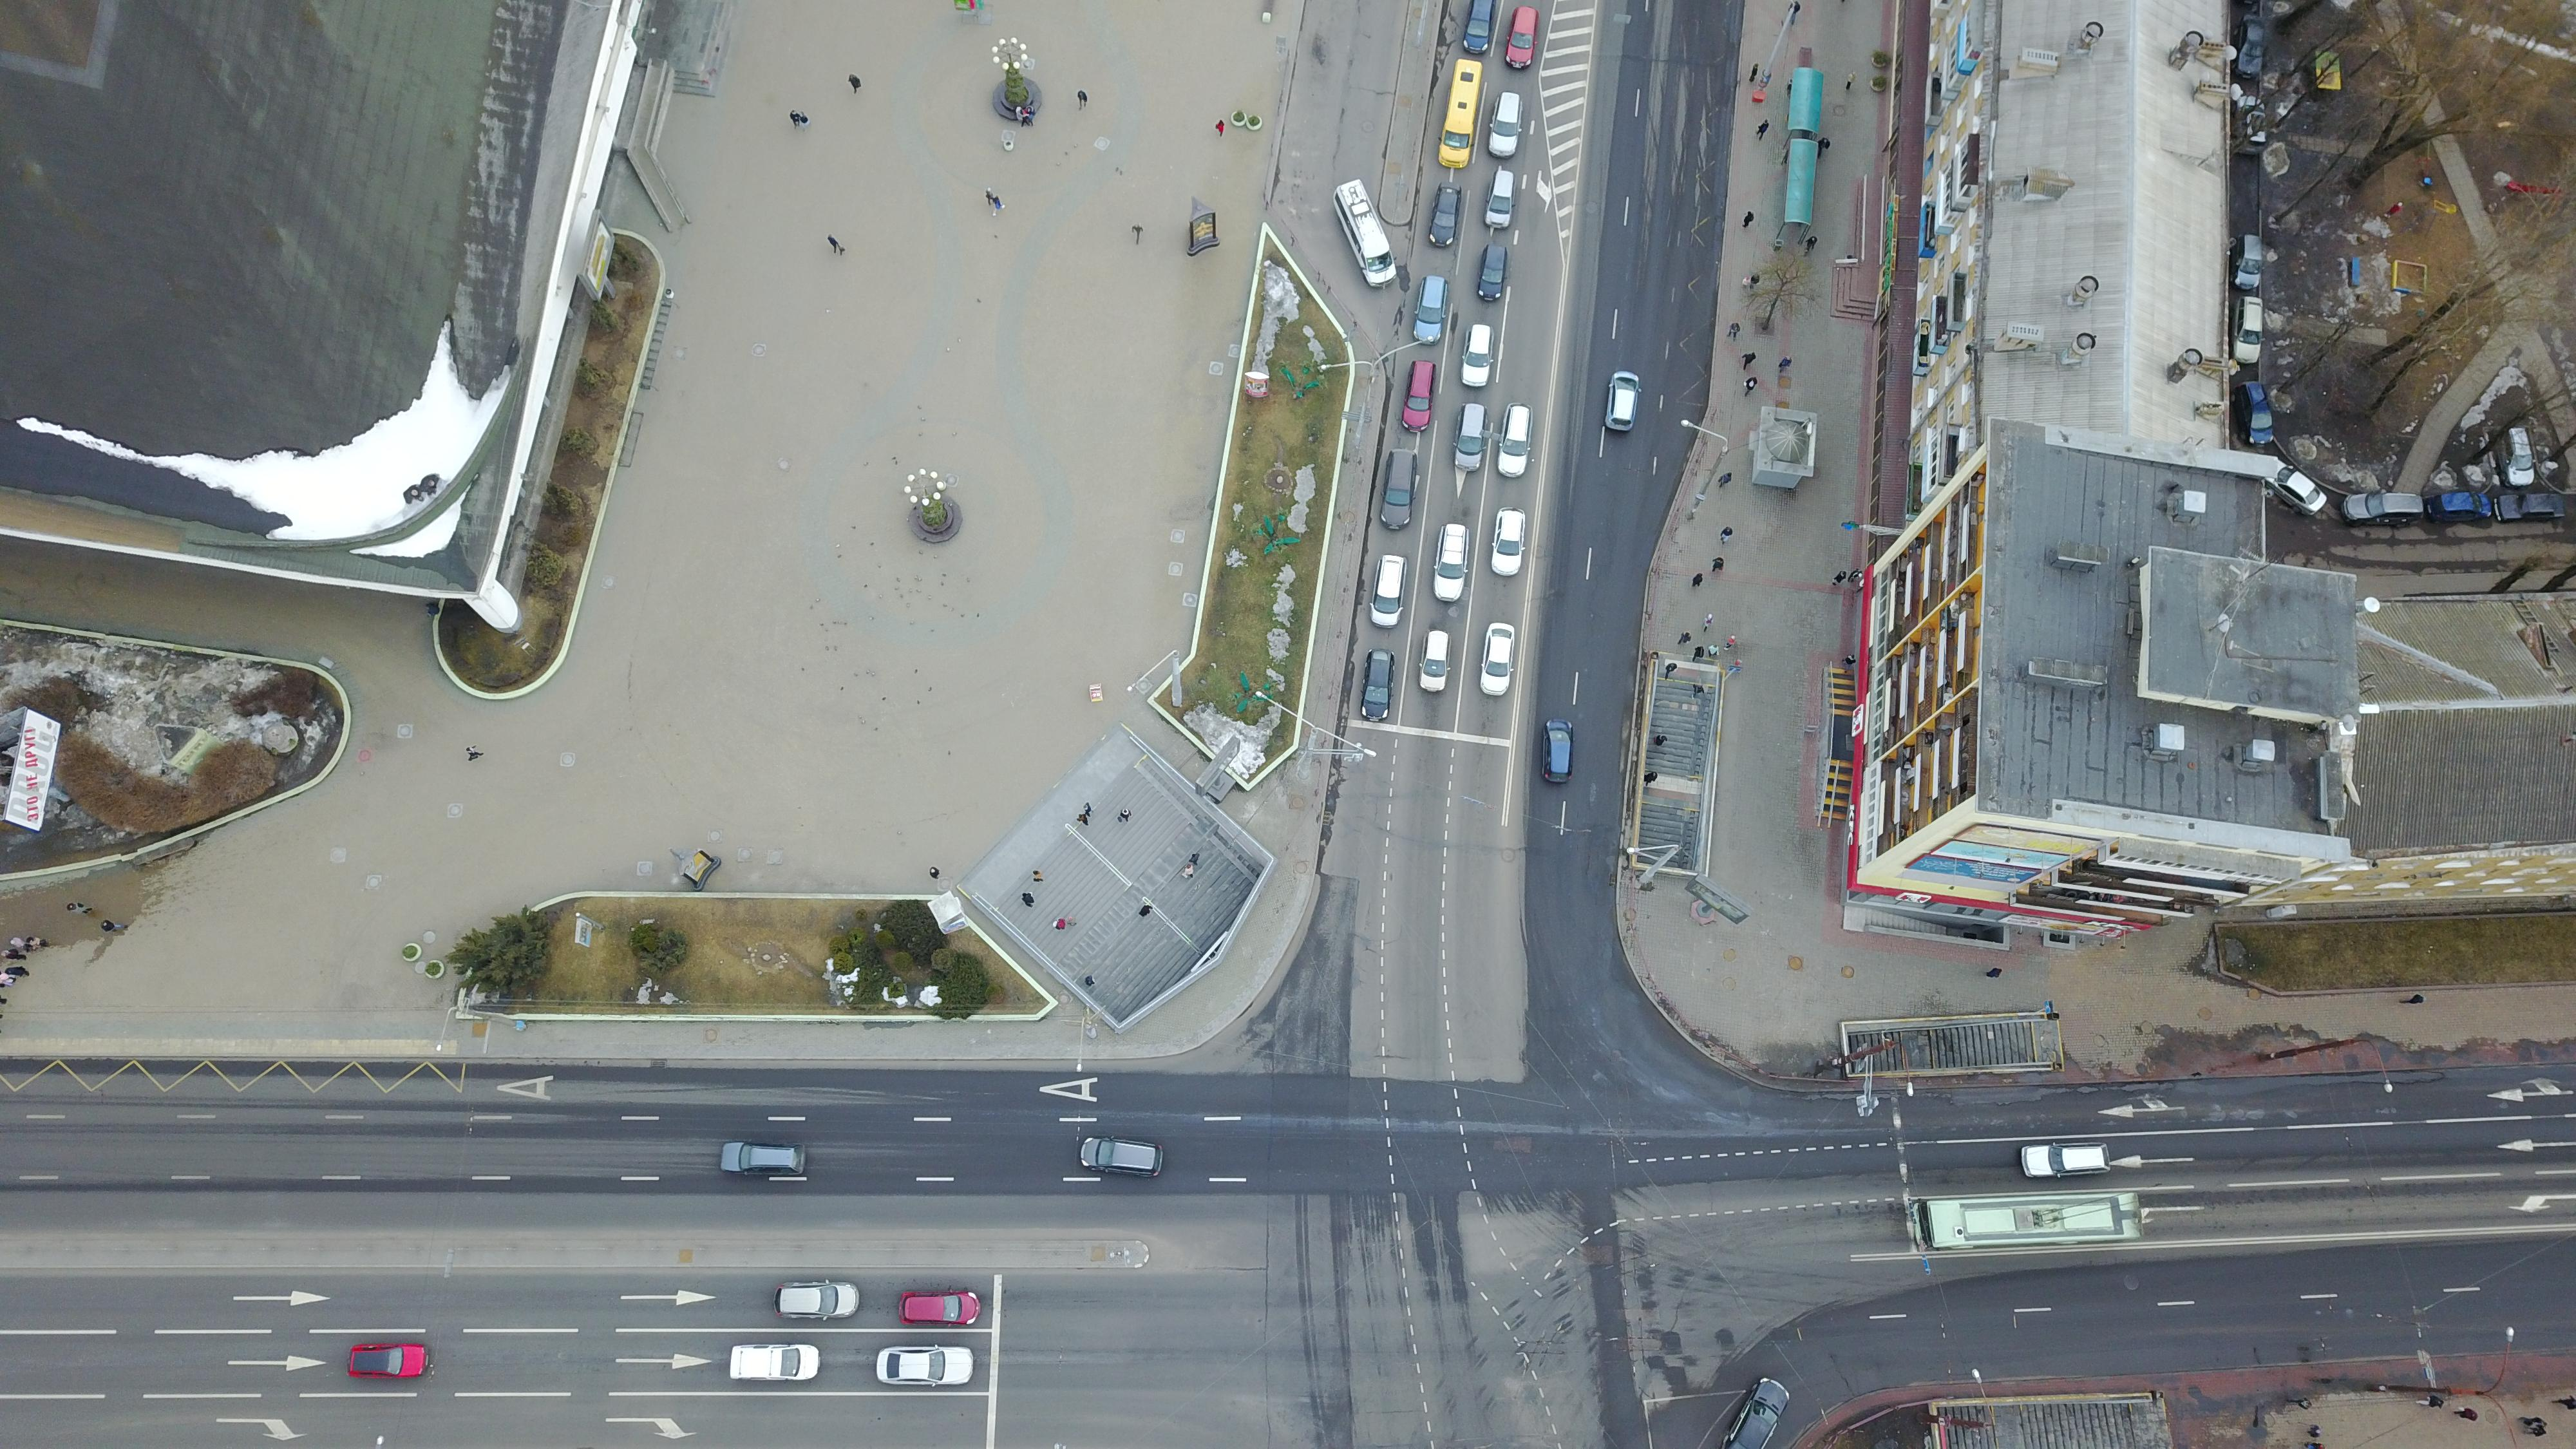car: (869, 1343, 984, 1396), (725, 1339, 828, 1391), (1076, 1134, 1171, 1189), (771, 1276, 863, 1329), (2015, 1136, 2118, 1180), (715, 1139, 810, 1180), (1428, 520, 1476, 602), (1493, 400, 1537, 485), (897, 1286, 980, 1330), (1378, 446, 1422, 529), (1479, 617, 1522, 702), (1599, 366, 1647, 441), (343, 1339, 433, 1378), (1366, 552, 1410, 628), (1357, 644, 1398, 725), (1398, 356, 1440, 433), (1484, 88, 1529, 159), (1500, 2, 1539, 81), (1410, 271, 1451, 345), (1481, 166, 1527, 232), (1456, 324, 1499, 391), (1491, 504, 1529, 580), (1422, 179, 1463, 246), (1539, 715, 1578, 784), (1414, 628, 1451, 699), (1451, 400, 1486, 472), (1472, 241, 1511, 303)
